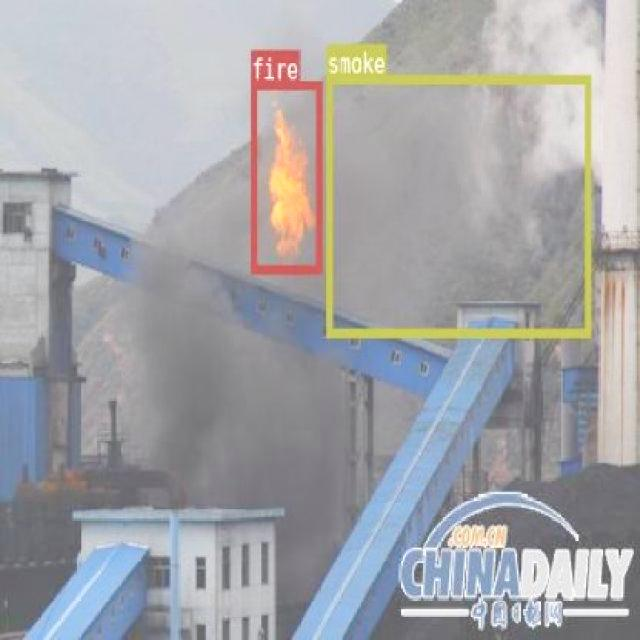fire: (250, 80, 321, 274)
smoke: (326, 73, 589, 336)
